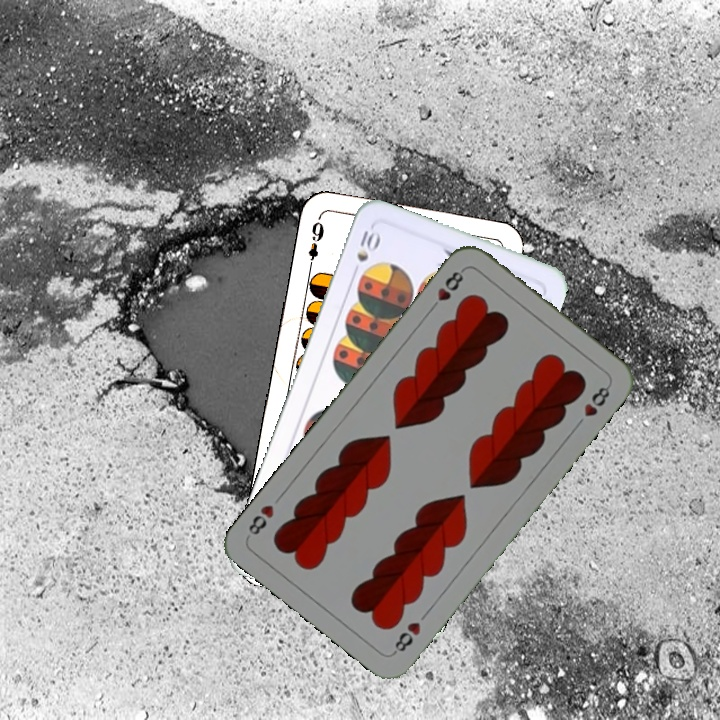E9: (304, 215, 327, 274)
H8: (425, 265, 467, 315), (389, 617, 424, 657)
S10: (352, 226, 382, 265)
